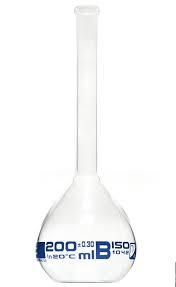Volumetric flask: (31, 7, 143, 286)
